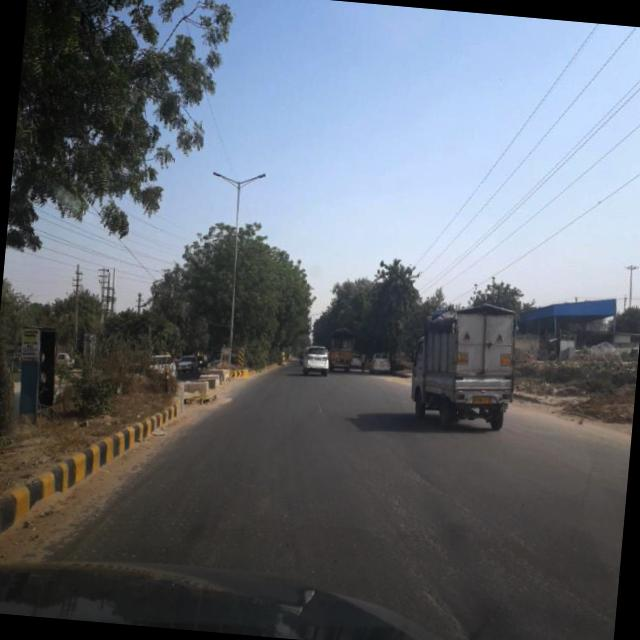crack: (374, 511, 490, 640)
